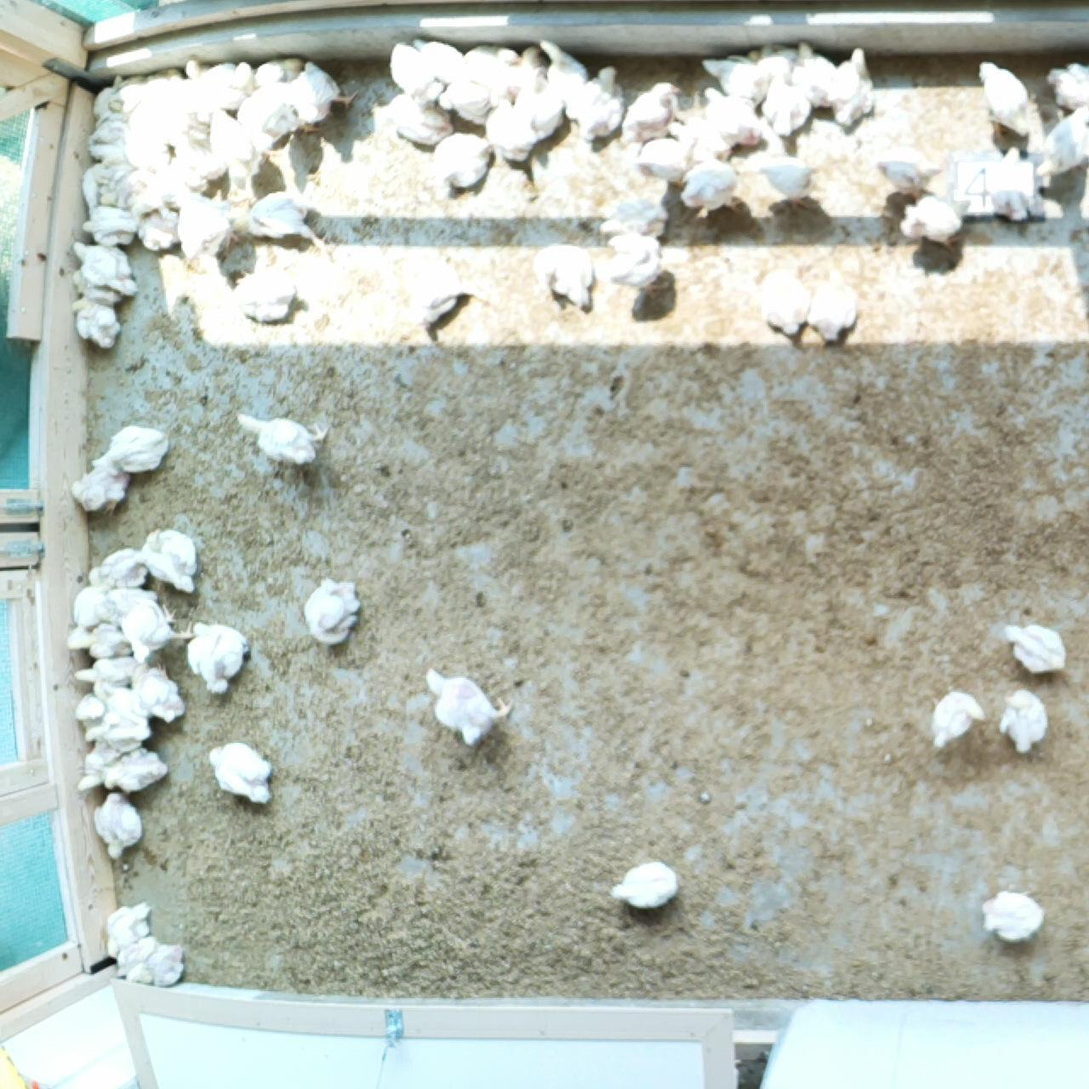chicken: (426, 670, 512, 747), (412, 247, 481, 335), (247, 187, 332, 253), (237, 411, 330, 468), (120, 594, 194, 662), (204, 741, 278, 806), (607, 231, 676, 299), (532, 243, 598, 312), (974, 886, 1045, 948), (190, 620, 248, 693), (292, 60, 354, 128), (1001, 616, 1066, 680), (141, 528, 205, 593), (618, 83, 685, 145), (806, 269, 862, 342), (178, 194, 245, 255), (979, 60, 1030, 140), (73, 235, 139, 295), (607, 858, 680, 912), (305, 574, 362, 643), (95, 687, 160, 747), (207, 110, 261, 182), (751, 151, 818, 208), (702, 54, 776, 105), (531, 43, 587, 110), (829, 49, 877, 127), (578, 59, 624, 139), (94, 428, 175, 472), (929, 688, 982, 755), (992, 148, 1038, 225), (185, 59, 254, 110), (434, 132, 489, 195), (385, 93, 455, 140), (93, 792, 142, 859), (996, 690, 1048, 753), (901, 192, 966, 242), (101, 898, 152, 961), (1045, 111, 1089, 184), (681, 161, 741, 213), (761, 269, 809, 334), (66, 465, 131, 513), (73, 657, 153, 696), (239, 271, 299, 322), (390, 42, 442, 100), (508, 76, 559, 135), (135, 668, 191, 721), (790, 43, 835, 108), (598, 195, 671, 235), (704, 89, 759, 140), (72, 295, 121, 352), (1046, 57, 1089, 119), (101, 753, 169, 792), (86, 545, 150, 586), (129, 942, 191, 984), (75, 696, 122, 751), (485, 105, 531, 161), (464, 48, 522, 91), (137, 77, 192, 122), (420, 40, 470, 87), (120, 125, 171, 170), (873, 148, 934, 185), (76, 586, 124, 632), (449, 83, 498, 128), (764, 78, 803, 134), (89, 117, 137, 162), (71, 630, 136, 662), (71, 270, 123, 309), (75, 750, 122, 792), (84, 209, 137, 246), (745, 40, 804, 73), (116, 940, 160, 984), (109, 162, 151, 207), (247, 65, 308, 91), (519, 50, 555, 88), (80, 162, 111, 206), (92, 83, 131, 117)
